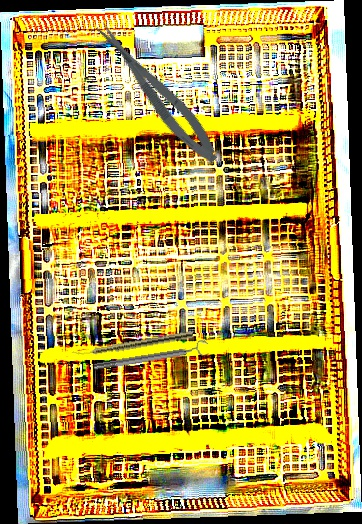Fixation Ring: (92, 339, 210, 375)
Handpiece: (71, 329, 194, 360)
Micro Scissor: (90, 13, 225, 171)
